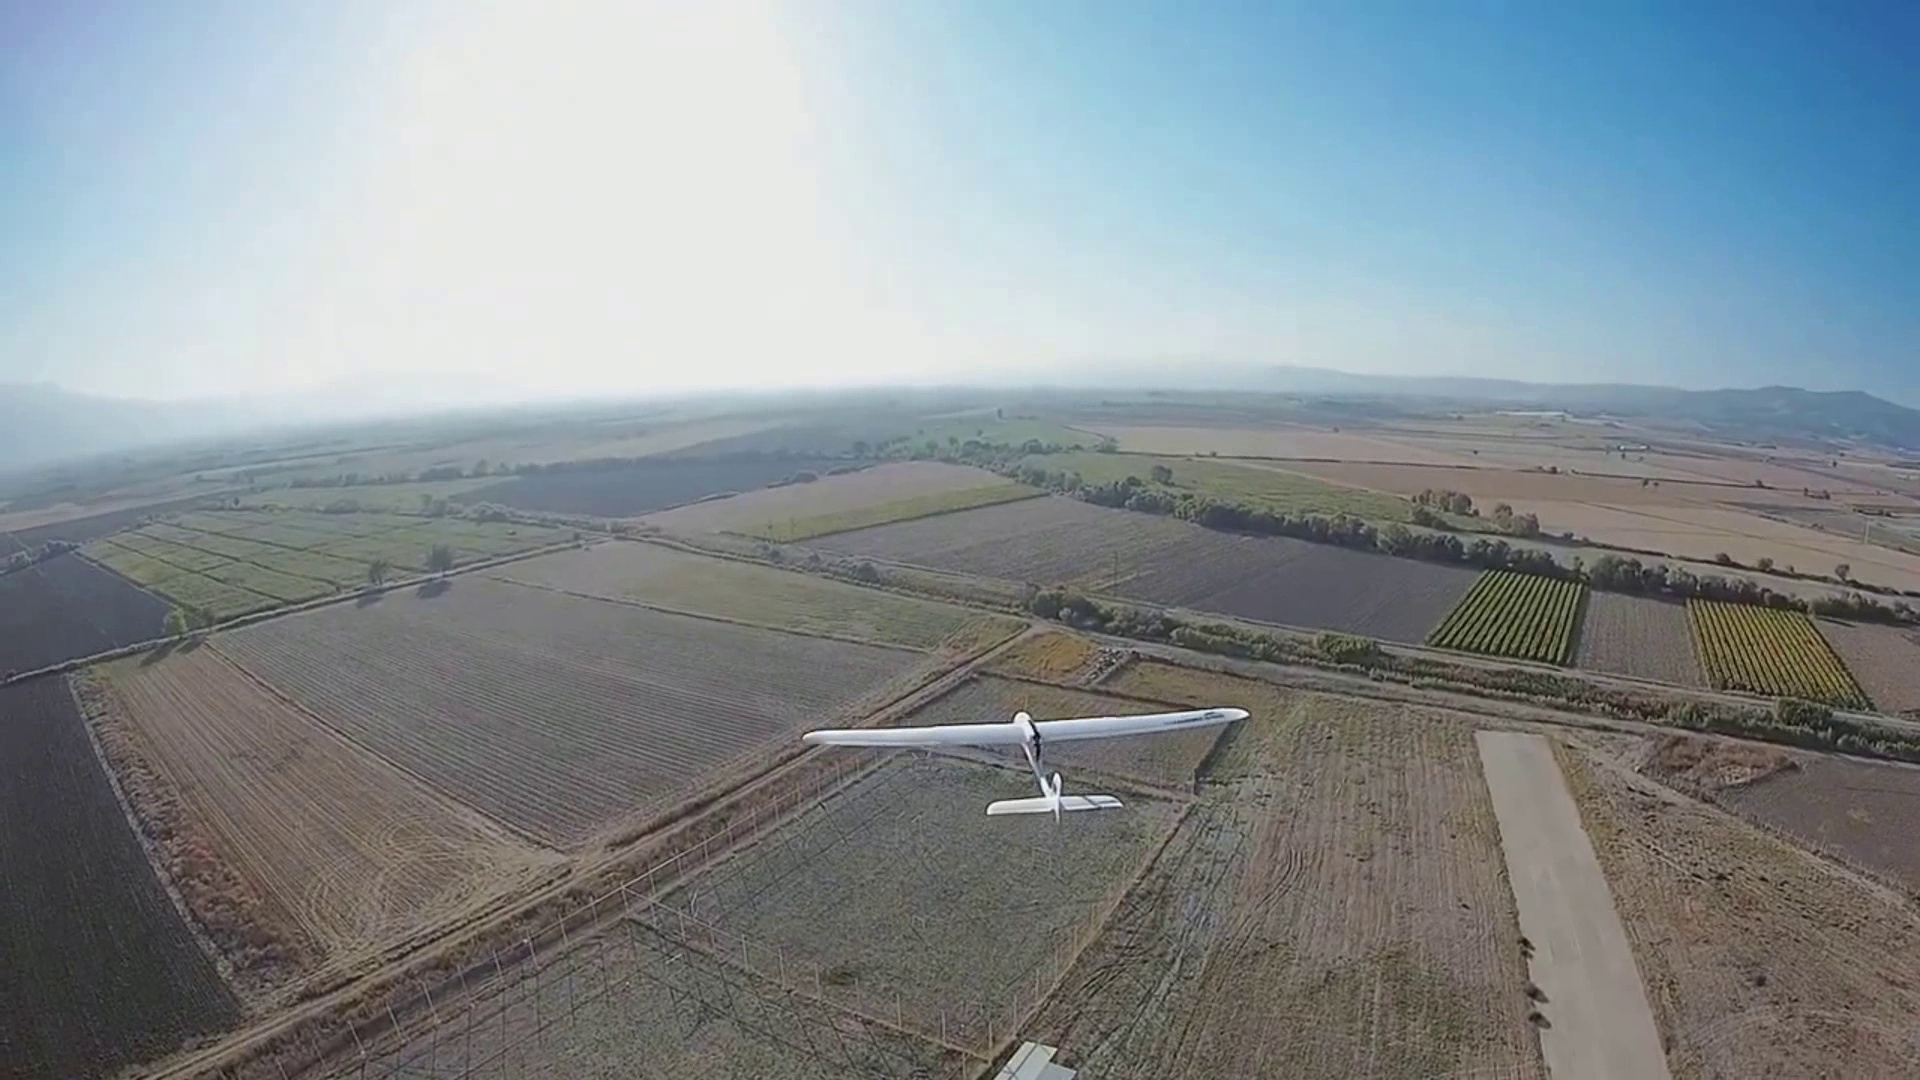airplane: (799, 703, 1251, 820)
